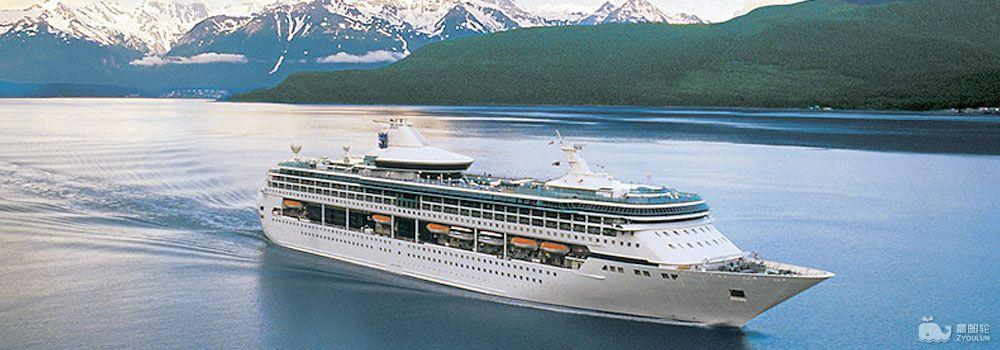youlun: (256, 113, 834, 329)
